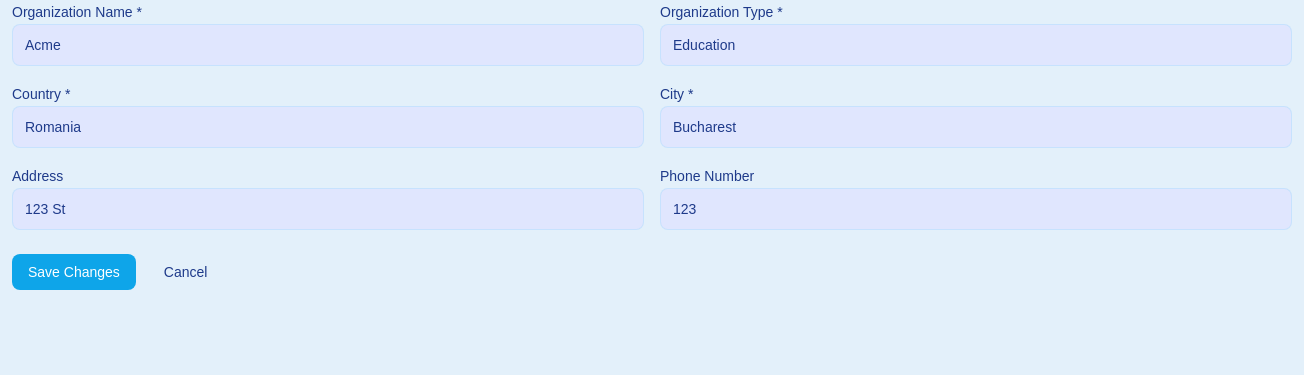
Scenario: OrganizationInlineEditForm › shows error message when save fails
Click the button "Save Changes" at [74, 272], box [12, 254, 136, 290]
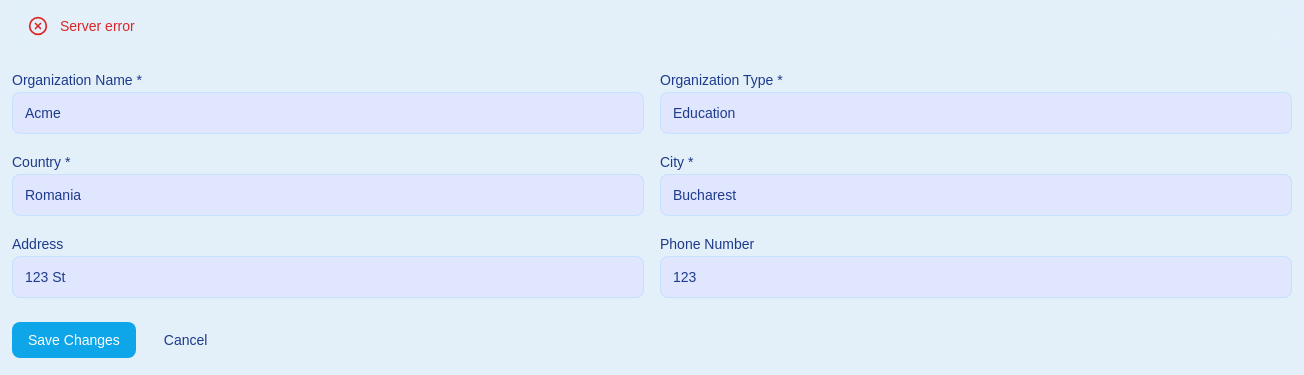
Now the text "Server error" is shown, box [60, 16, 135, 36]
